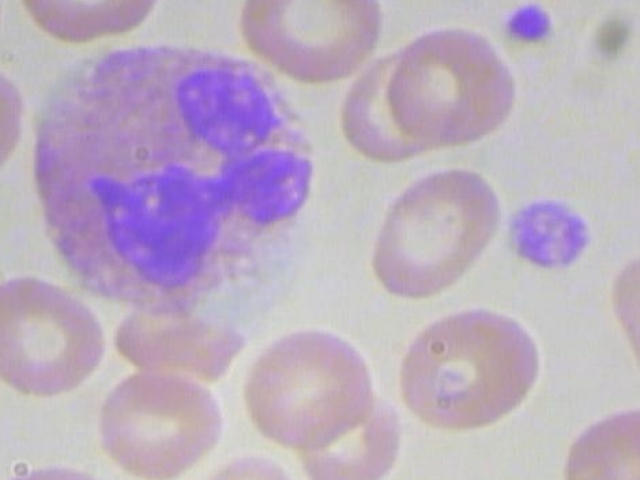Platelets: (500, 191, 594, 275), (497, 0, 562, 50)
RBC: (353, 157, 511, 301), (391, 308, 545, 434), (98, 351, 231, 480), (385, 21, 521, 147), (242, 320, 376, 445), (230, 0, 389, 91), (0, 271, 108, 398), (539, 399, 640, 480), (5, 0, 175, 41), (0, 55, 32, 203), (0, 450, 134, 480), (174, 450, 300, 480), (0, 0, 6, 67)
WBC: (12, 26, 337, 307)
